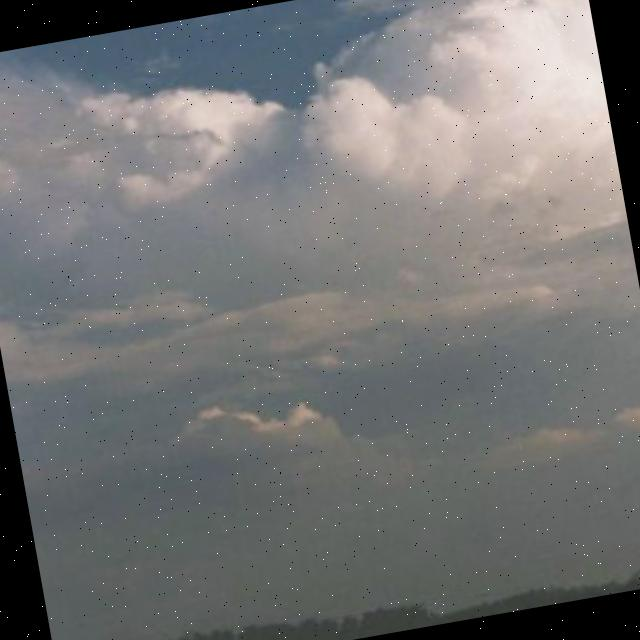St: (1, 1, 640, 607)
